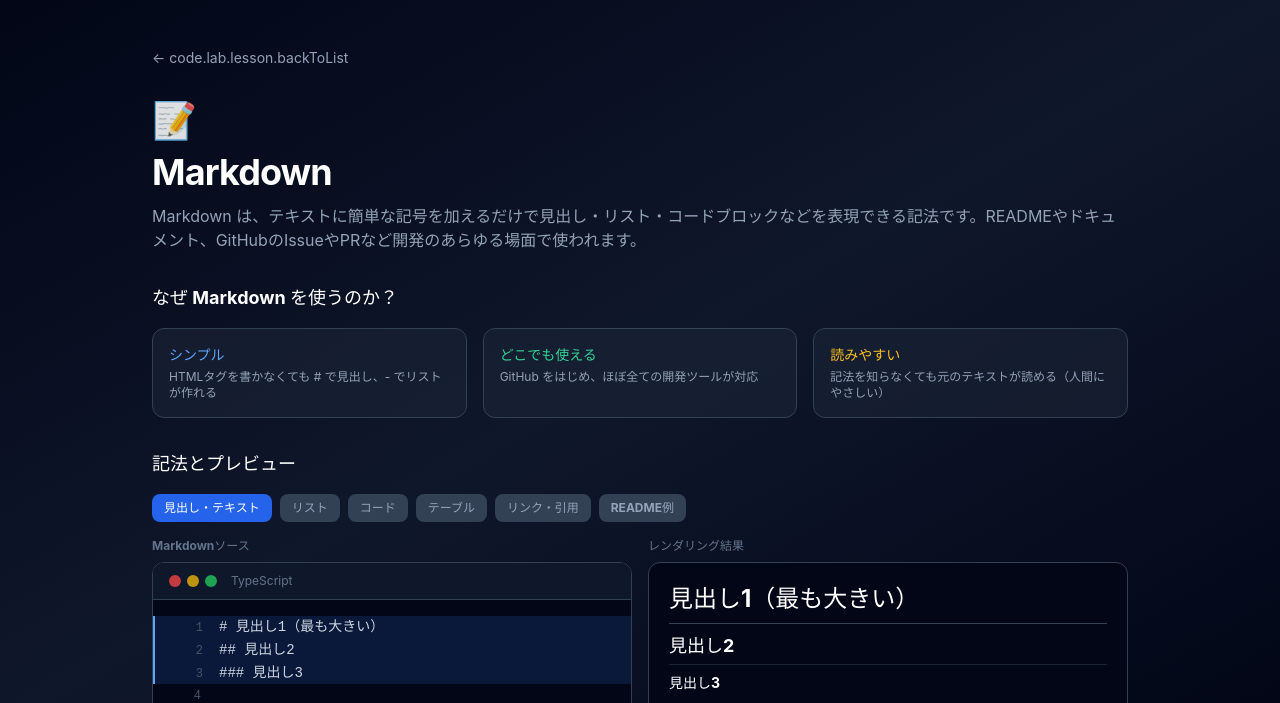
Test case: MarkdownLesson interactions › should switch to Links section
This screenshot has width=1280, height=703.
Step 1. Click the button "リンク・引用" → (543, 508), box x1=495 y1=494 x2=591 y2=522
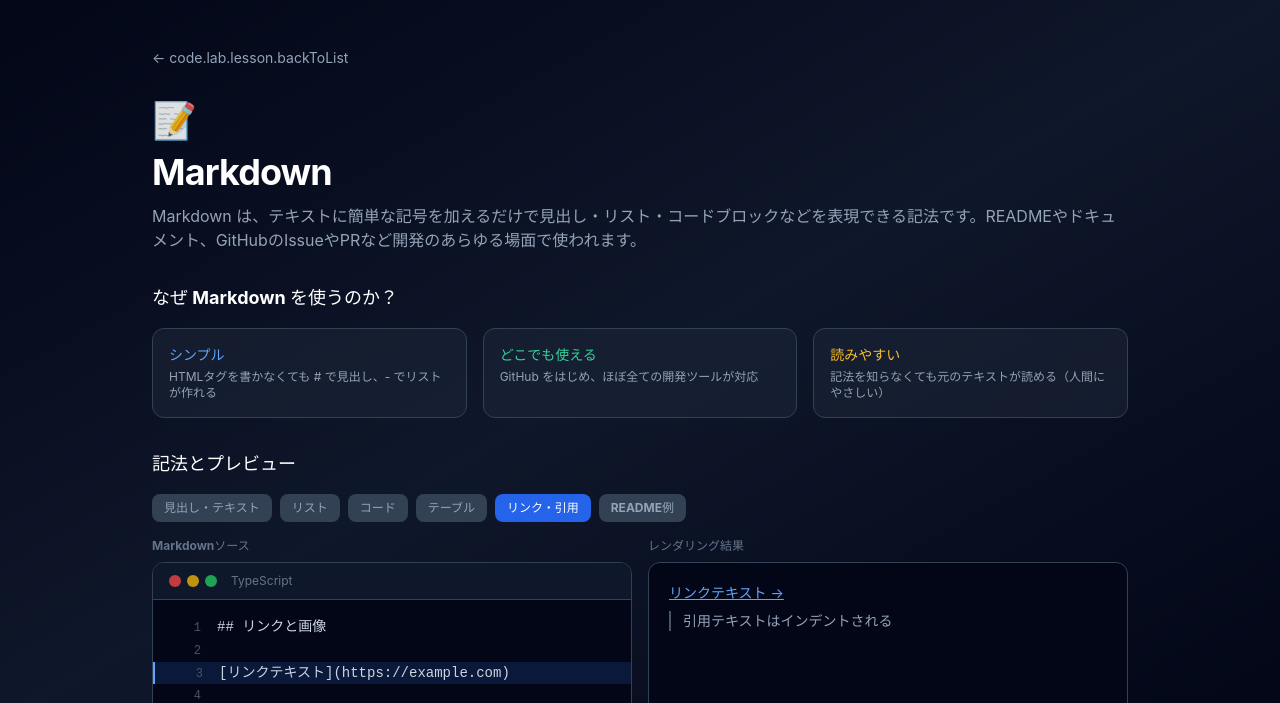
Result: the text "リンクテキスト →" is shown at x1=669 y1=584 x2=784 y2=601
